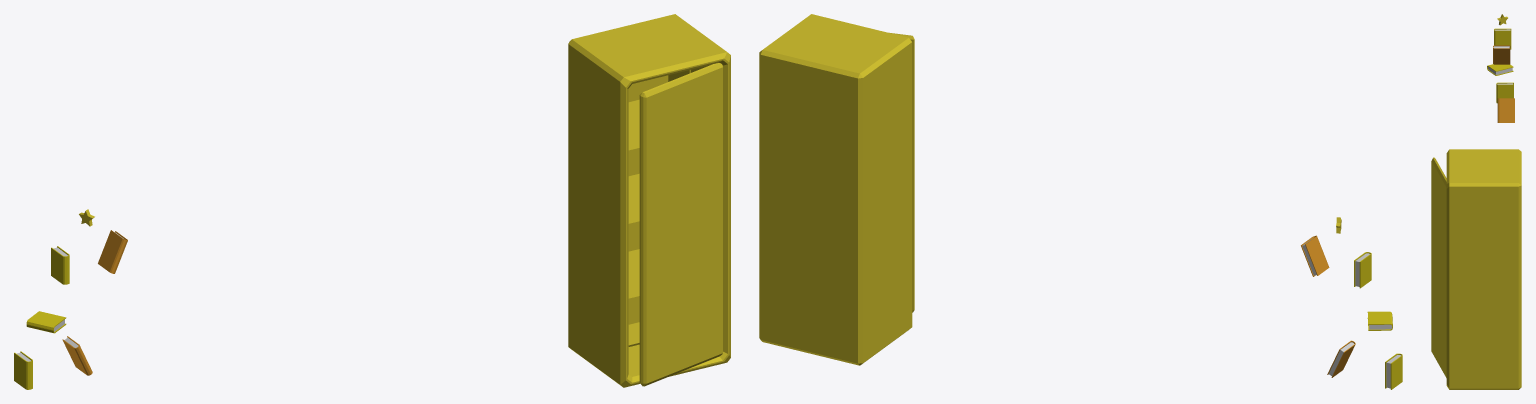
File: room_escape_new_yellow.obj
3 renders of one model, left to right at view 1: azimuth 30°, elevation 25°; view 2: azimuth 150°, elevation 25°; view 3: azimuth 270°, elevation 25°, orthographic. The views are drawn at different scales.
Visible parts, largest first — view 1: Grid.010_yellow, 立方体.002_yellow, Cube.022_orange_book; view 2: Grid.010_yellow, 立方体.002_yellow, Cube.022_orange_book; view 3: Grid.010_yellow, 立方体.002_yellow, Cube.011_orange_book, Cube.022_orange_book, Cube.017_yellow_book, Cube.005_yellow_book, Cube.028_yellow_book, Cube.028_white_paper.
Part boxes in pixels (bbox=[...]): Grid.010_yellow: bbox=[568, 14, 730, 387]; 立方体.002_yellow: bbox=[639, 63, 722, 386]; Cube.022_orange_book: bbox=[98, 230, 127, 273]; Grid.010_yellow: bbox=[759, 14, 912, 365]; 立方体.002_yellow: bbox=[889, 32, 914, 312]; Cube.022_orange_book: bbox=[1301, 235, 1329, 276]; Grid.010_yellow: bbox=[1446, 149, 1521, 389]; 立方体.002_yellow: bbox=[1431, 157, 1446, 377]; Cube.011_orange_book: bbox=[1497, 98, 1514, 122]; Cube.022_orange_book: bbox=[1493, 45, 1510, 64]; Cube.017_yellow_book: bbox=[1494, 28, 1511, 49]; Cube.005_yellow_book: bbox=[1496, 82, 1513, 103]; Cube.028_yellow_book: bbox=[1487, 64, 1513, 75]; Cube.028_white_paper: bbox=[1488, 66, 1512, 74].
Size of the model in its own units: 6.79 by 3.02 by 1.19.
